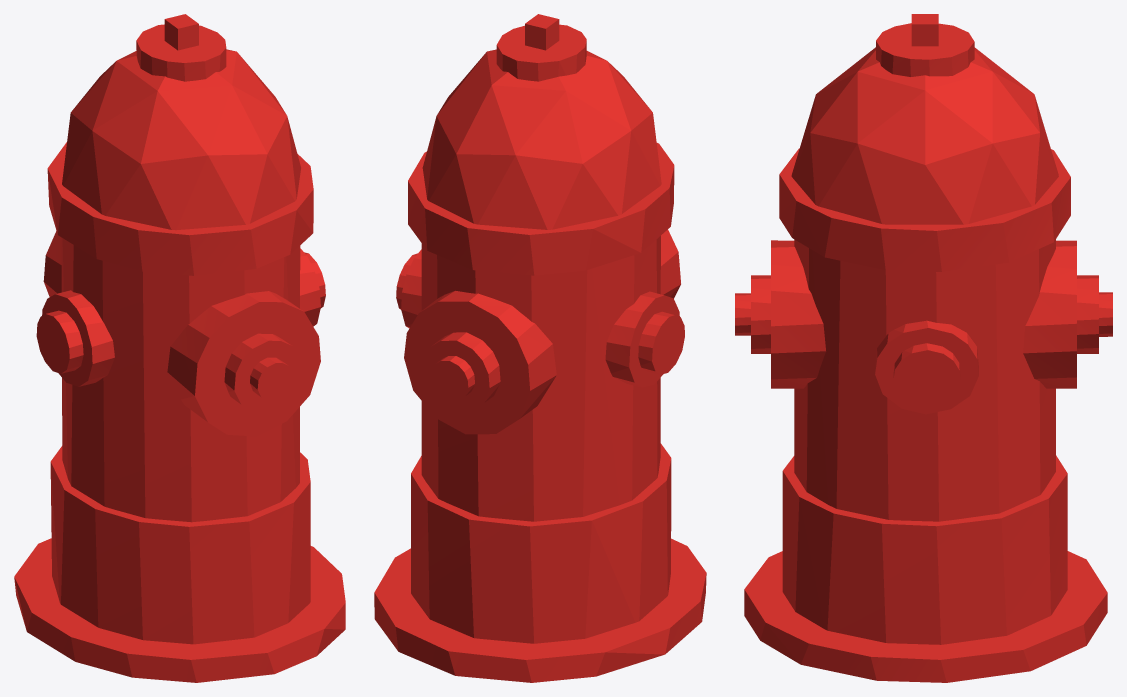
File: static.Fire-Hydrant.glb
3 views of the same model, side by side, from view 1: azimuth 30°, elevation 25°; view 2: azimuth 150°, elevation 25°; view 3: azimuth 270°, elevation 25° (orthographic).
Parts seen in each view (by area): view 1: static.Fire Hydrant; view 2: static.Fire Hydrant; view 3: static.Fire Hydrant.
Part boxes in pixels (x1,y1,x2,y2): static.Fire Hydrant: (14,14,345,682); static.Fire Hydrant: (374,14,706,682); static.Fire Hydrant: (735,14,1112,682).
Size of the model in its own units: 0.3547 by 0.7152 by 0.4115.
